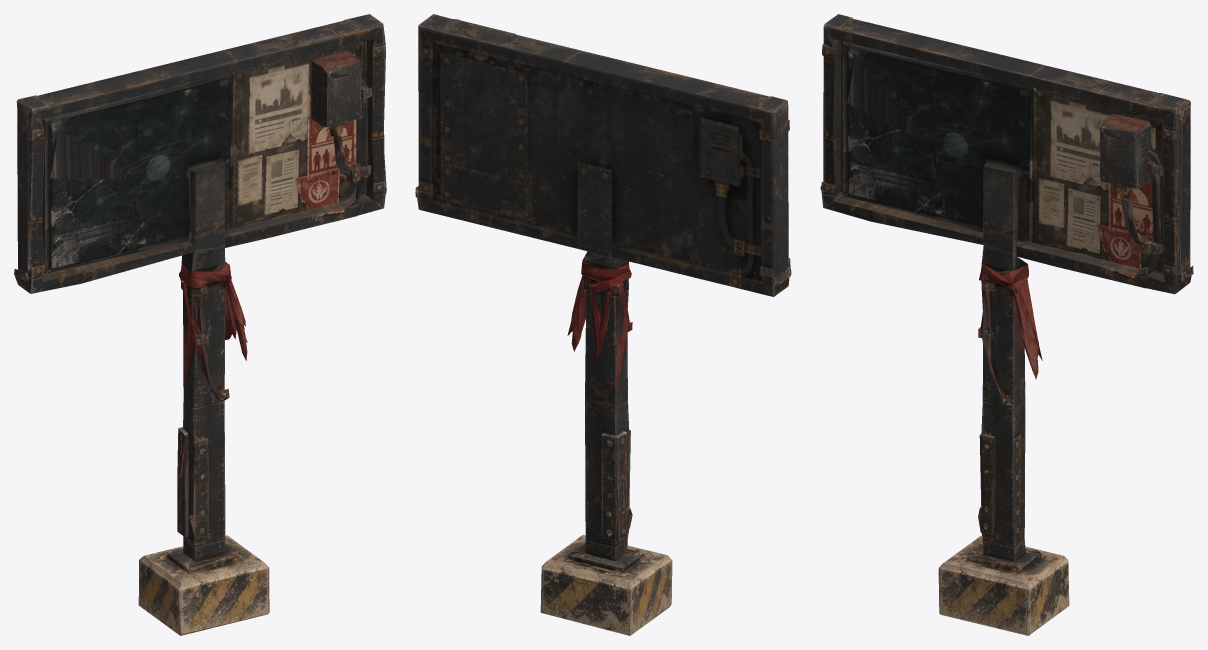
File: billboard.glb
3 renders of one model, left to right at view 1: azimuth 30°, elevation 25°; view 2: azimuth 150°, elevation 25°; view 3: azimuth 330°, elevation 25°, orthographic.
Size of the model in its own units: 1.32 by 1.9 by 0.2623.
Materials: 1 (1 with a texture image).
